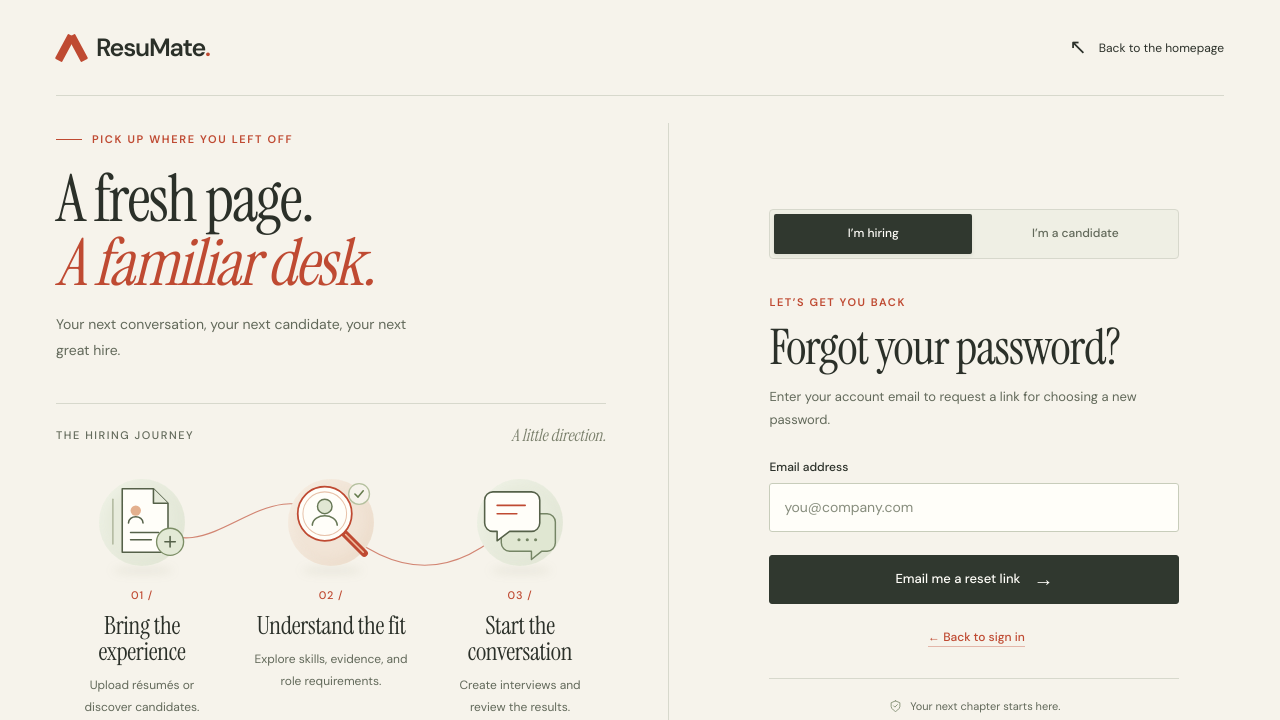
Test case: asking for a link › says it couldn't request the link when the server fails without a reason
Type "jane@co.com" into the field labelled "Email address" at [974, 507], box [769,483,1179,532]
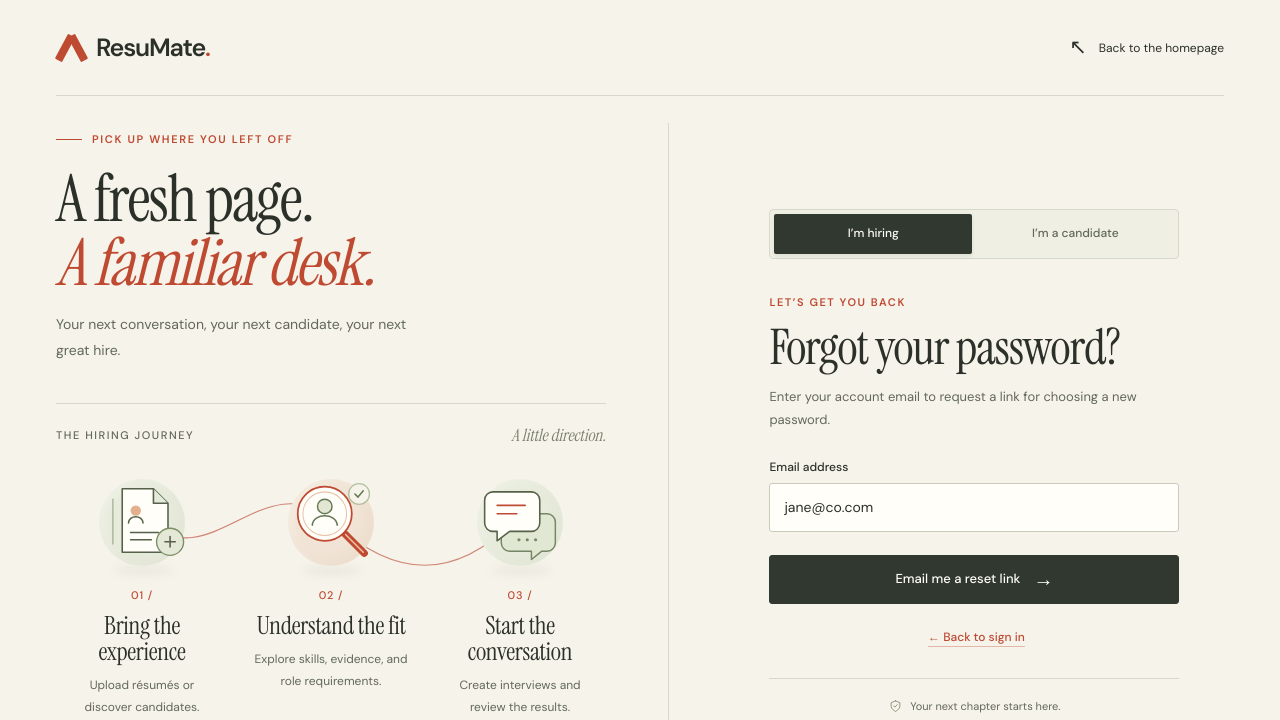
Click the button "Email me a reset link →" at [974, 579], box [769,555,1179,604]
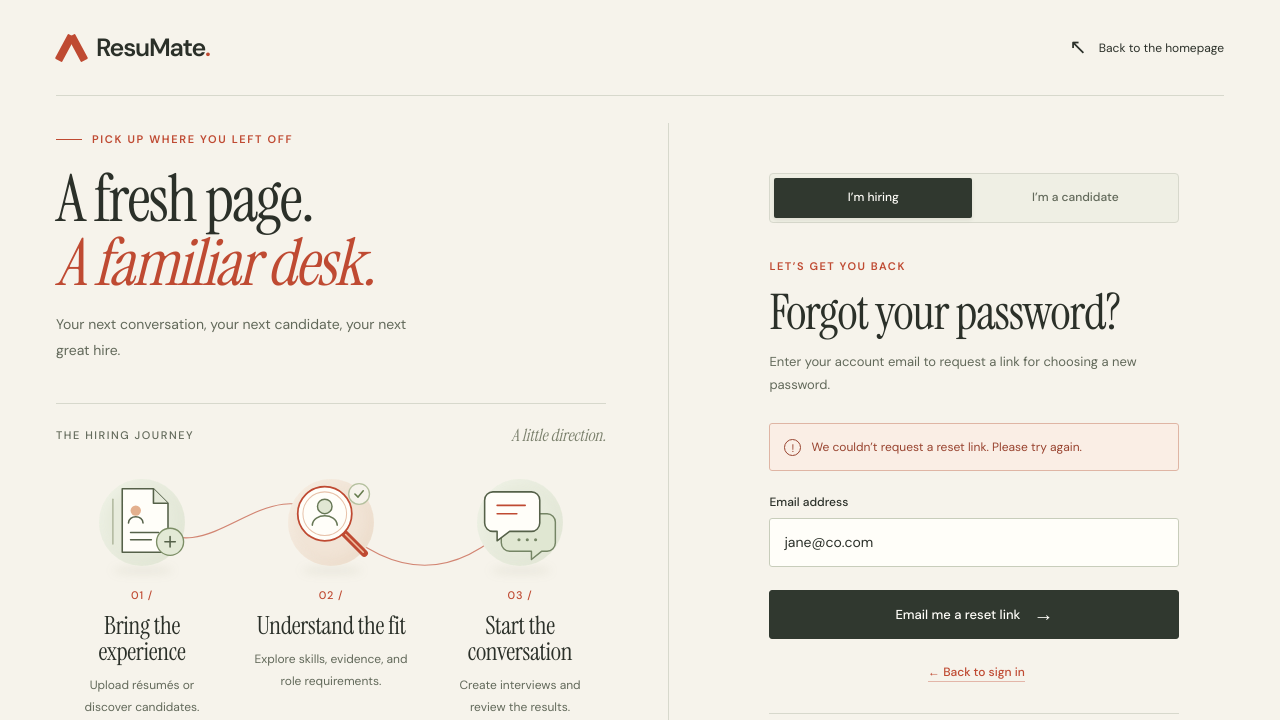
Result: the message shows "We couldn’t request a reset link. Please try again." at [811,438,1082,454]
